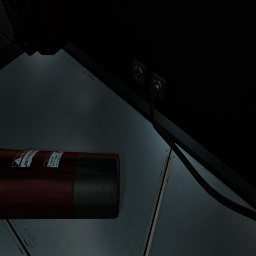NitrogenTank ,: (0, 148, 120, 220)
